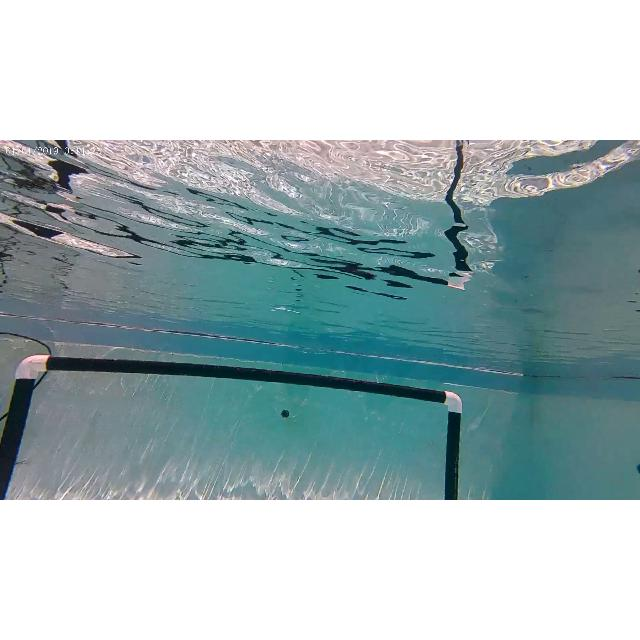prequal gate: (0, 354, 464, 500)
prequal gate leg l: (2, 354, 50, 498)
prequal gate leg r: (437, 386, 465, 499)
